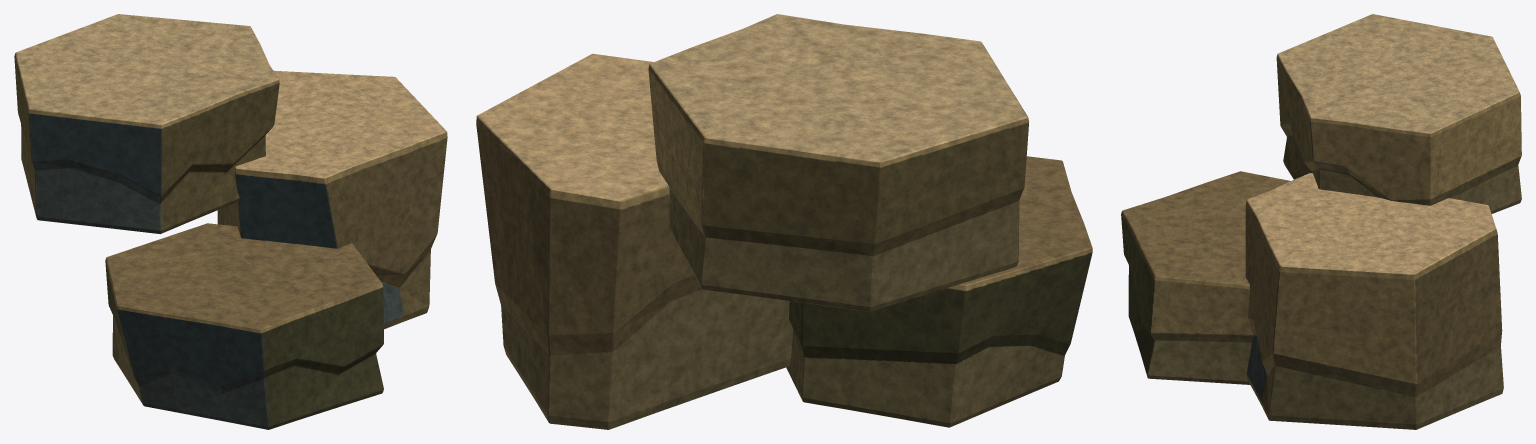
File: OrirockConcentration_FrontRevision.fbx
The picture shows the model from 3 angles, left to right: view 1: azimuth 30°, elevation 25°; view 2: azimuth 150°, elevation 25°; view 3: azimuth 270°, elevation 25°; orthographic projection. The views are drawn at different scales.
Parts seen in each view (by area): view 1: 提纯源岩_左后_宽顶短壁, 提纯源岩_前方_宽扁断块, 提纯源岩_右后_斜切与下阶; view 2: 提纯源岩_左后_宽顶短壁, 提纯源岩_右后_斜切与下阶, 提纯源岩_前方_宽扁断块; view 3: 提纯源岩_右后_斜切与下阶, 提纯源岩_左后_宽顶短壁, 提纯源岩_前方_宽扁断块.
Part boxes in pixels (bbox=[...]): 提纯源岩_左后_宽顶短壁: bbox=[14, 14, 279, 233]; 提纯源岩_前方_宽扁断块: bbox=[105, 223, 383, 429]; 提纯源岩_右后_斜切与下阶: bbox=[217, 70, 447, 329]; 提纯源岩_左后_宽顶短壁: bbox=[648, 14, 1028, 311]; 提纯源岩_右后_斜切与下阶: bbox=[476, 53, 793, 429]; 提纯源岩_前方_宽扁断块: bbox=[786, 156, 1092, 427]; 提纯源岩_右后_斜切与下阶: bbox=[1245, 173, 1503, 429]; 提纯源岩_左后_宽顶短壁: bbox=[1276, 14, 1521, 213]; 提纯源岩_前方_宽扁断块: bbox=[1121, 171, 1290, 384].
Bounding box in the file's own units: 165 × 105 × 151.
